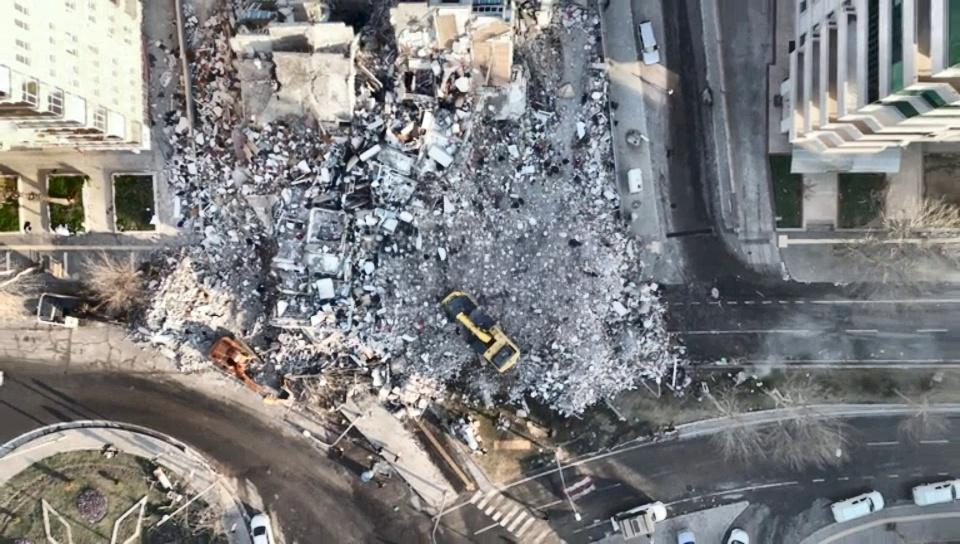kapali: (261, 297, 734, 363)
